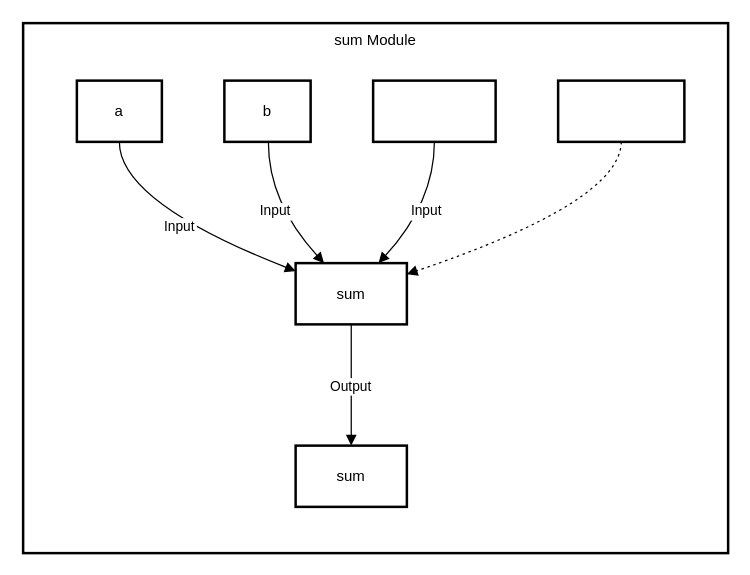
Image size: 750x575. Some labels were removed from this diagram. The shapes that lost their labels are listed below. From the top down, each one's centre as x and y in pixels, then its label:
At [433,110]: "cy_in".
At [620,110]: "t[7:0]".
